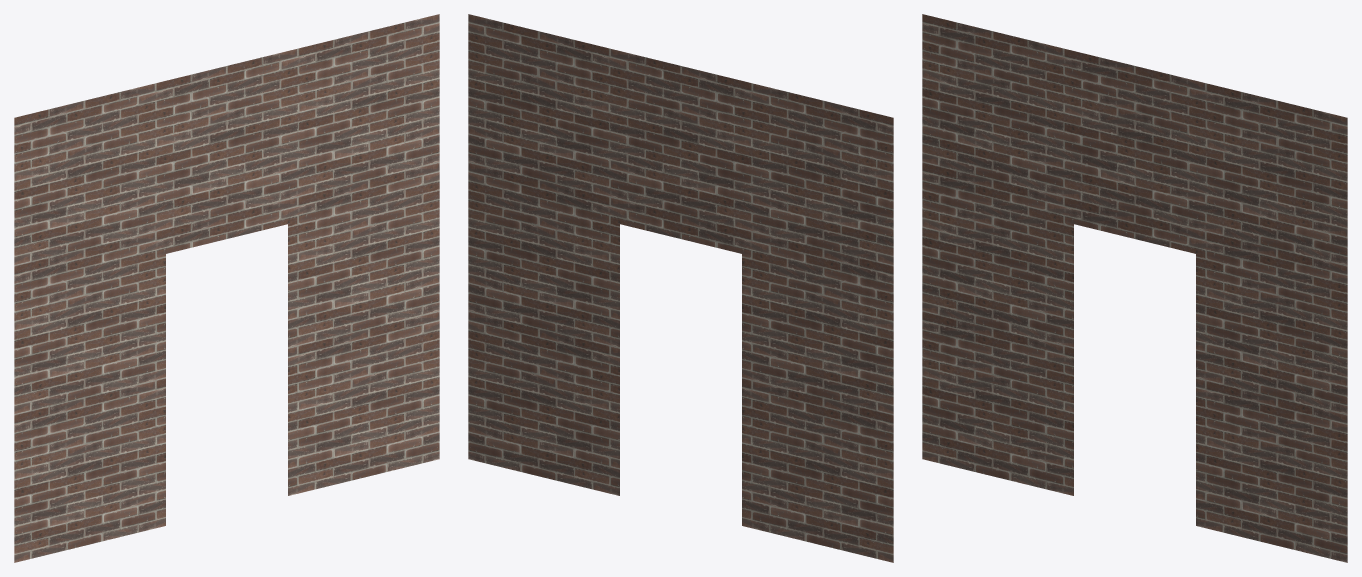
File: wallpaper_019.fbx
3 renders of one model, left to right at view 1: azimuth 30°, elevation 25°; view 2: azimuth 150°, elevation 25°; view 3: azimuth 330°, elevation 25°, orthographic.
Parts seen in each view (by area): view 1: wallpaper_019; view 2: wallpaper_019; view 3: wallpaper_019.
Part boxes in pixels (x1,y1,x2,y2): wallpaper_019: (14,14,439,562); wallpaper_019: (468,14,893,562); wallpaper_019: (922,14,1347,562).
Bounding box in the file's own units: 400 × 4.77e-05 × 400.
